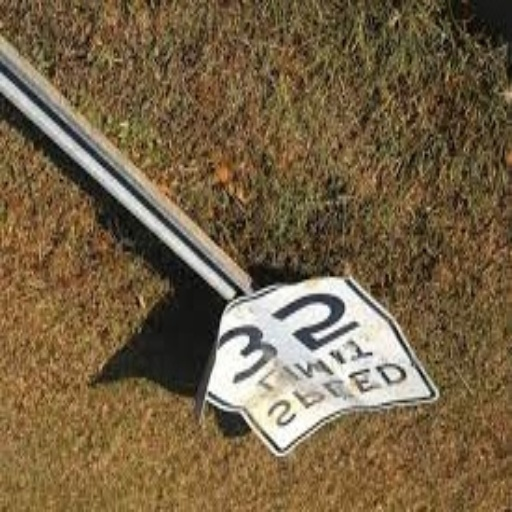Speed limit: (184, 273, 469, 451)
